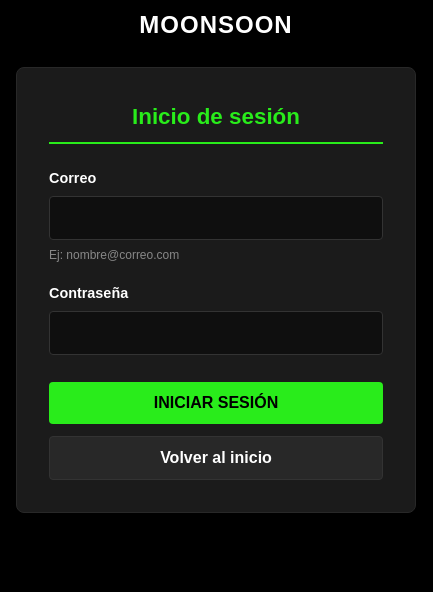
it: Login › muestra errores si se envía el formulario vacío
Step 1. Click the button "Iniciar sesión" → (216, 403), box [49,382,383,424]
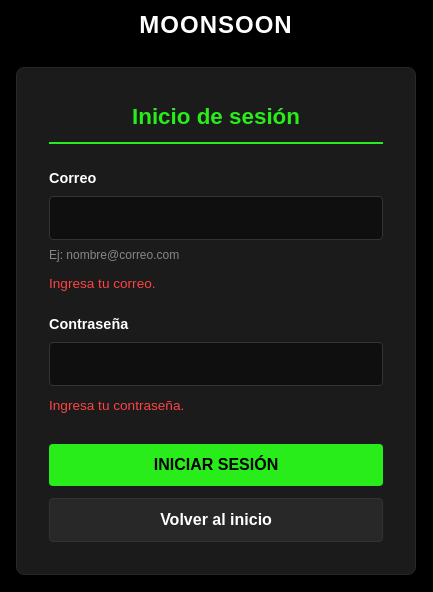
Now the text "Ingresa tu correo." is shown, box [49,276,156,291]
Now the text "Ingresa tu contraseña." is shown, box [49,398,184,413]
